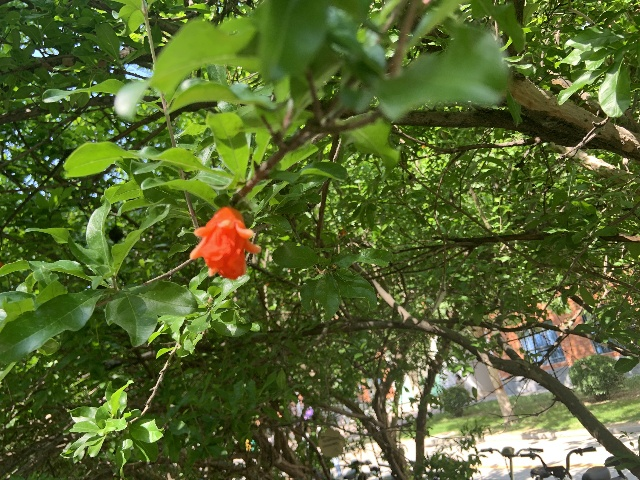flower: (190, 206, 261, 280)
